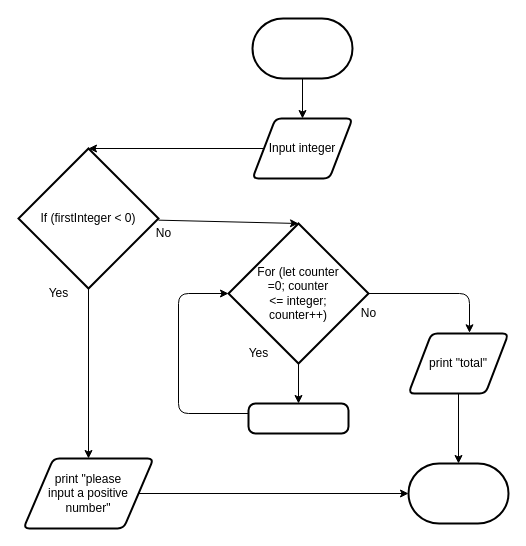
The diagram is 526 pixels wide and 546 high, and some of its shapes have lost their labels. The shapes that lost their labels are listed below. From the top down, each one's centre as x and y in pixels, then its label:
the point at 302,48: Start
the point at 298,418: total += counter
the point at 458,493: Stop
